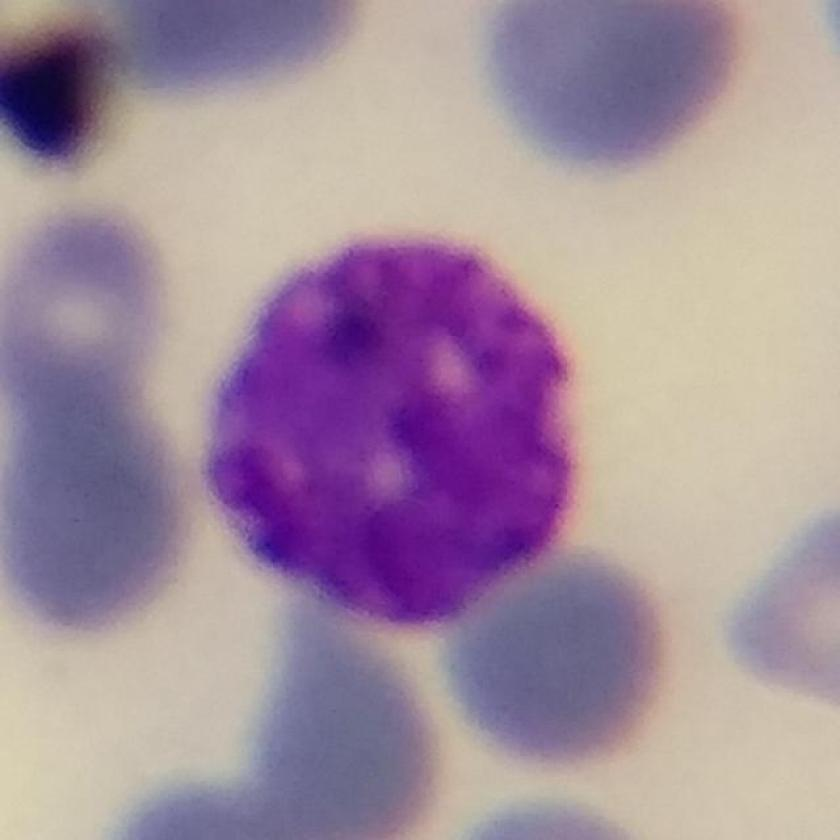basophil: (202, 226, 614, 633)
